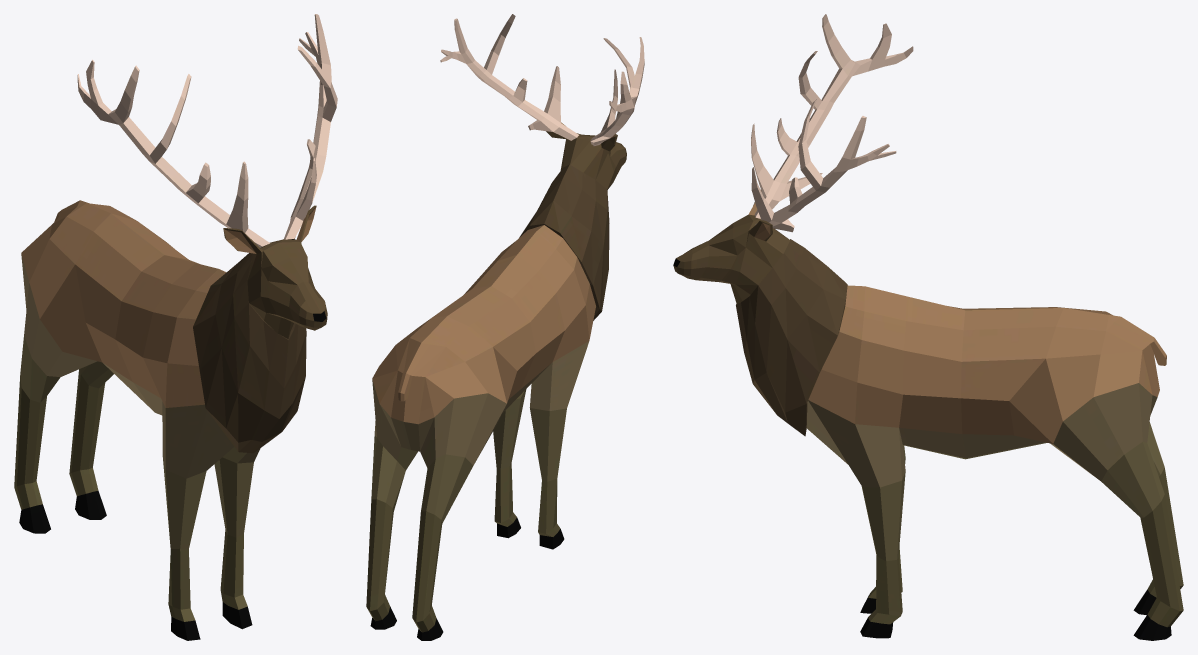
The model's file is Deer.glb.
3 renders of one model, left to right at view 1: azimuth 30°, elevation 25°; view 2: azimuth 150°, elevation 25°; view 3: azimuth 270°, elevation 25°, orthographic. The views are drawn at different scales.
Visible parts, largest first — view 1: 09deerFinal; view 2: 09deerFinal; view 3: 09deerFinal.
Boxes of the visible parts, bbox=[...] form: 09deerFinal: bbox=[14, 14, 337, 640]; 09deerFinal: bbox=[366, 14, 644, 640]; 09deerFinal: bbox=[673, 14, 1183, 640].
Size of the model in its own units: 1.04 by 2.72 by 2.24.
1 material, 1 textured.
